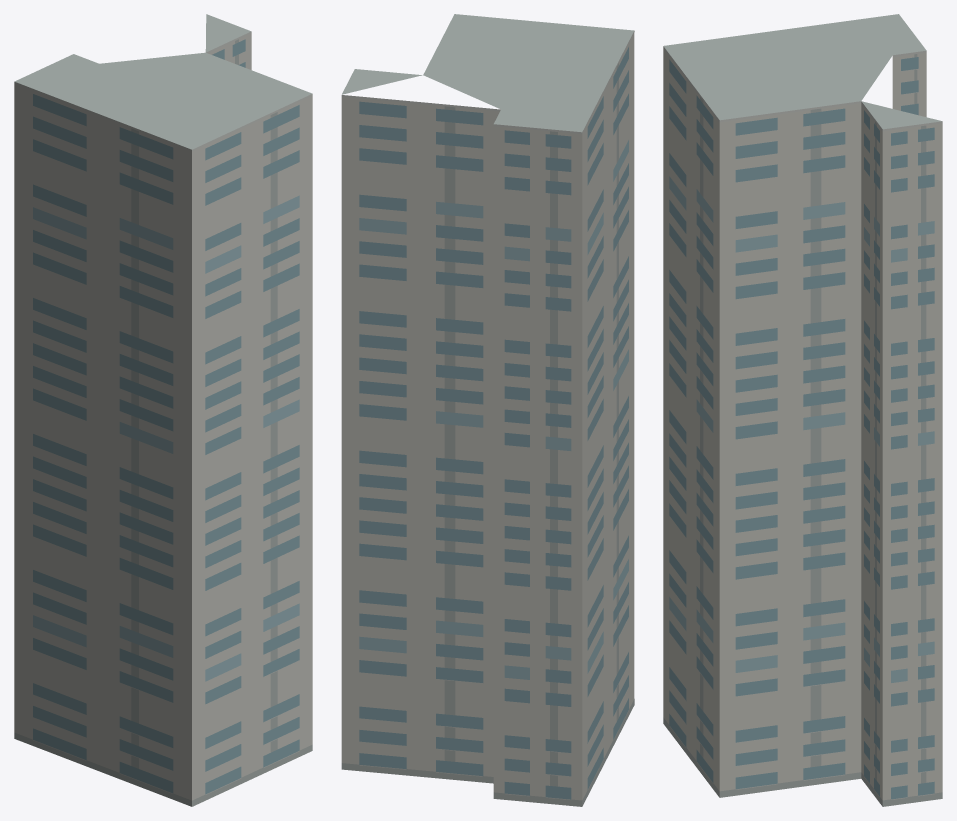
File: residential-a0ba17f3-b406-4dcd-ba64-9f4bfbca719e.glb
3 renders of one model, left to right at view 1: azimuth 30°, elevation 25°; view 2: azimuth 150°, elevation 25°; view 3: azimuth 270°, elevation 25°, orthographic. The views are drawn at different scales.
Parts seen in each view (by area): view 1: residential-a0ba17f3-b406-4dcd-ba64-9f4bfbca719e.tmp; view 2: residential-a0ba17f3-b406-4dcd-ba64-9f4bfbca719e.tmp; view 3: residential-a0ba17f3-b406-4dcd-ba64-9f4bfbca719e.tmp.
Part boxes in pixels (bbox=[...]): residential-a0ba17f3-b406-4dcd-ba64-9f4bfbca719e.tmp: bbox=[14, 14, 312, 806]; residential-a0ba17f3-b406-4dcd-ba64-9f4bfbca719e.tmp: bbox=[341, 14, 634, 806]; residential-a0ba17f3-b406-4dcd-ba64-9f4bfbca719e.tmp: bbox=[663, 14, 942, 806].
Bounding box in the file's own units: 29.96 × 82 × 30.67.
